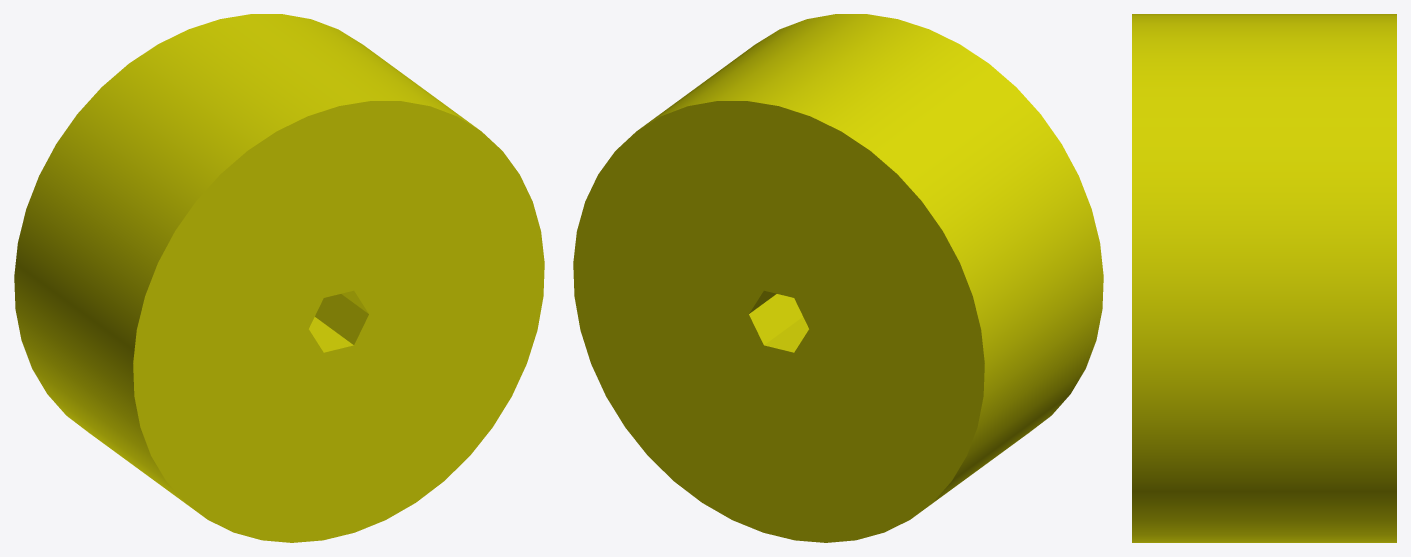
Rendered from 橡胶轮.fbx.
3 views of the same model, side by side, from view 1: azimuth 30°, elevation 25°; view 2: azimuth 150°, elevation 25°; view 3: azimuth 270°, elevation 25° (orthographic). The views are drawn at different scales.
Visible parts, largest first — view 1: 橡胶轮; view 2: 橡胶轮; view 3: 橡胶轮.
Boxes of the visible parts, x1,y1,x2,y2 form: 橡胶轮: (14,14,544,542); 橡胶轮: (573,14,1103,542); 橡胶轮: (1132,14,1396,542).
Size of the model in its own units: 9.99 by 9.99 by 5.
